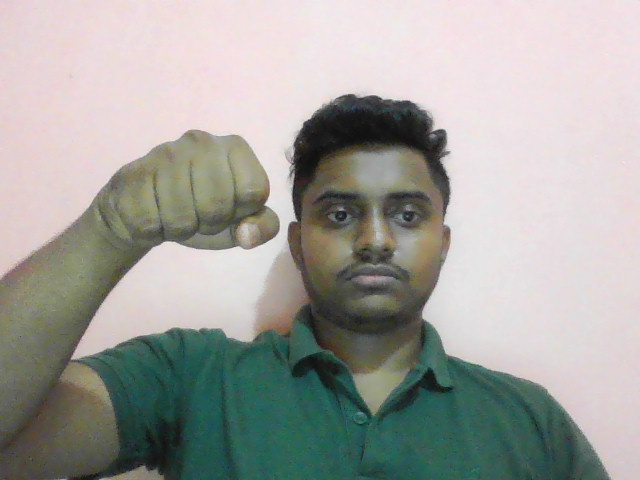Yes: (91, 118, 283, 263)
